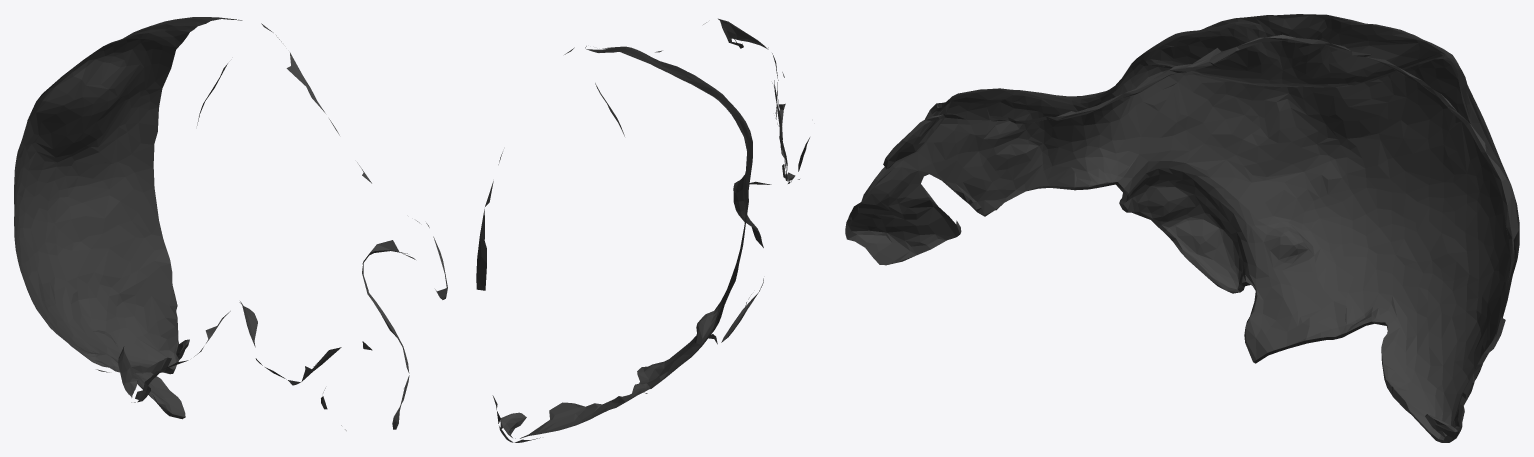
The model's file is dorsal_sac.glb.
3 renders of one model, left to right at view 1: azimuth 30°, elevation 25°; view 2: azimuth 150°, elevation 25°; view 3: azimuth 270°, elevation 25°, orthographic. The views are drawn at different scales.
Parts seen in each view (by area): view 1: dorsal_sac; view 2: dorsal_sac; view 3: dorsal_sac.
Part boxes in pixels (bbox=[...]): dorsal_sac: bbox=[14, 17, 447, 430]; dorsal_sac: bbox=[476, 18, 809, 442]; dorsal_sac: bbox=[845, 14, 1519, 442].
Bounding box in the file's own units: 0.9131 × 1.7 × 2.46.
1 material, 1 textured.
